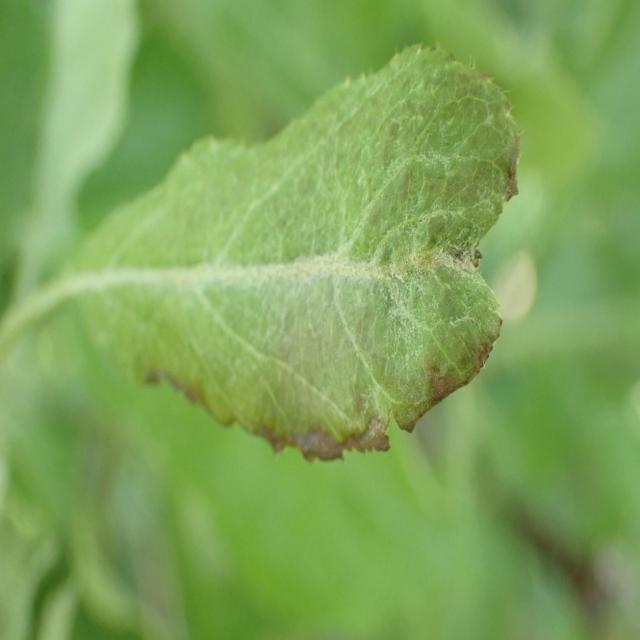Powdery_mildew: (56, 41, 534, 472)
